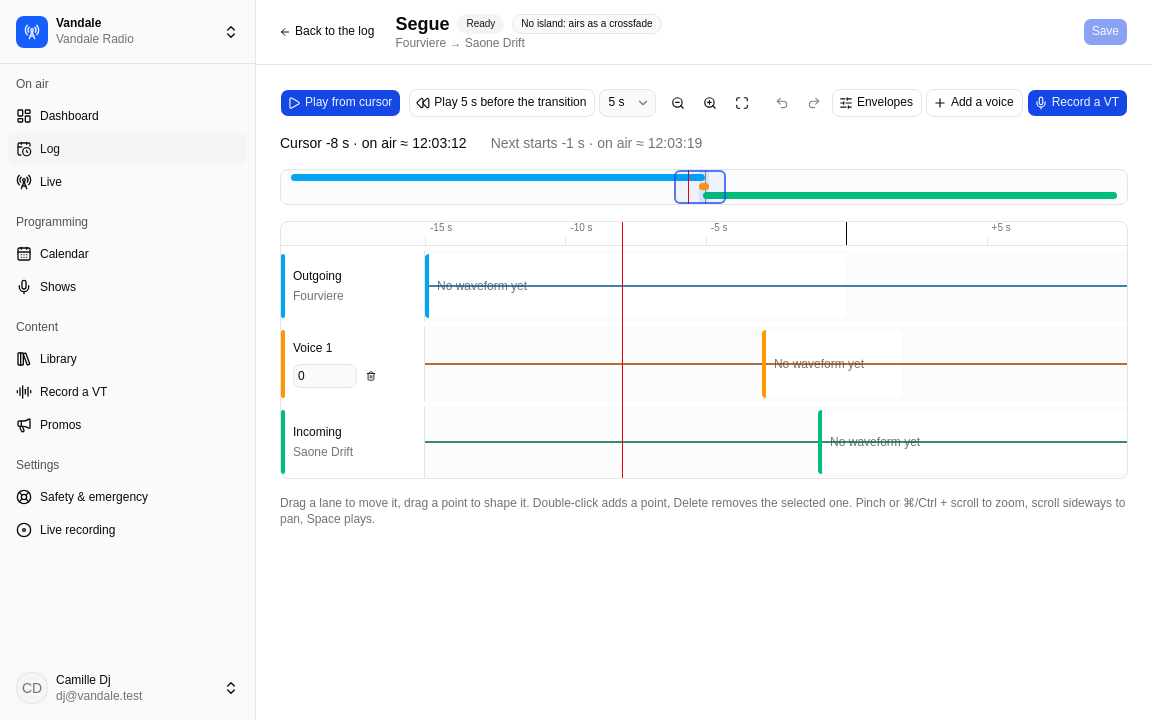
Test: segue editor › opens the voice picker
Expected: the text "Voice 1" is shown, [293,341,332,355]
Click the button "Add a voice": click(974, 103) [926,89,1023,117]
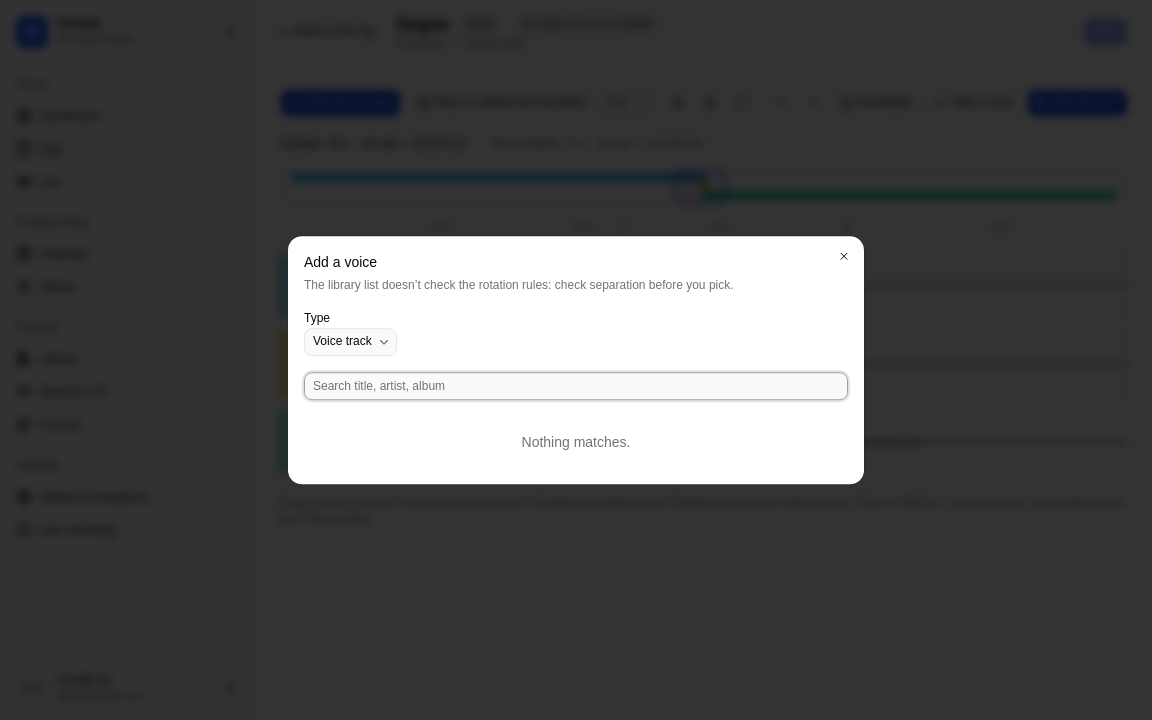
Now the dialog "Add a voice" is shown, box [288,236,864,484]
